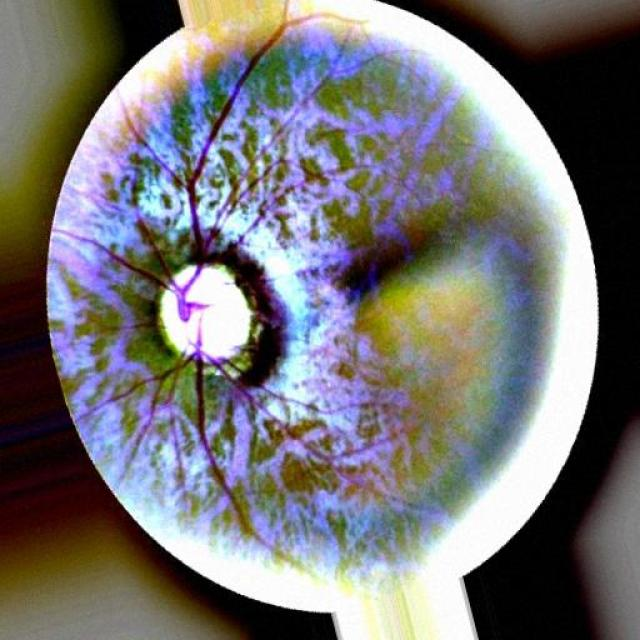Macula: (347, 227, 440, 299)
Nerves: (214, 364, 437, 517), (189, 75, 247, 260), (197, 364, 244, 529)
Optic Disk: (160, 266, 251, 361)
